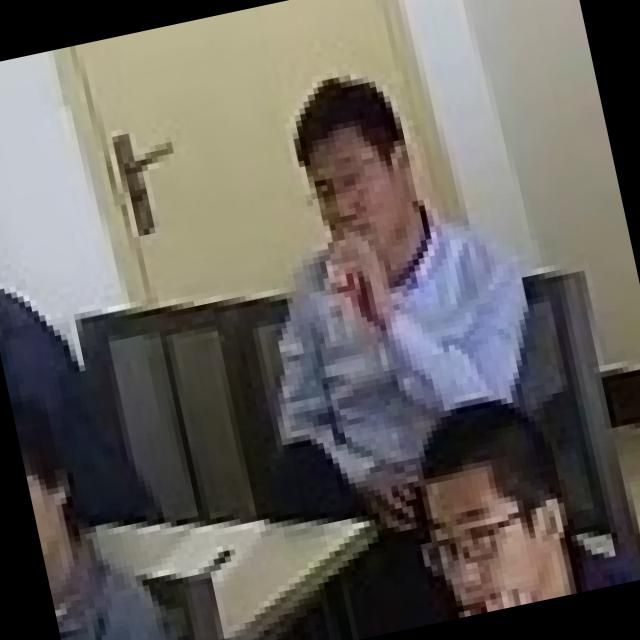drink: (235, 39, 571, 438)
listen: (342, 363, 635, 633)
